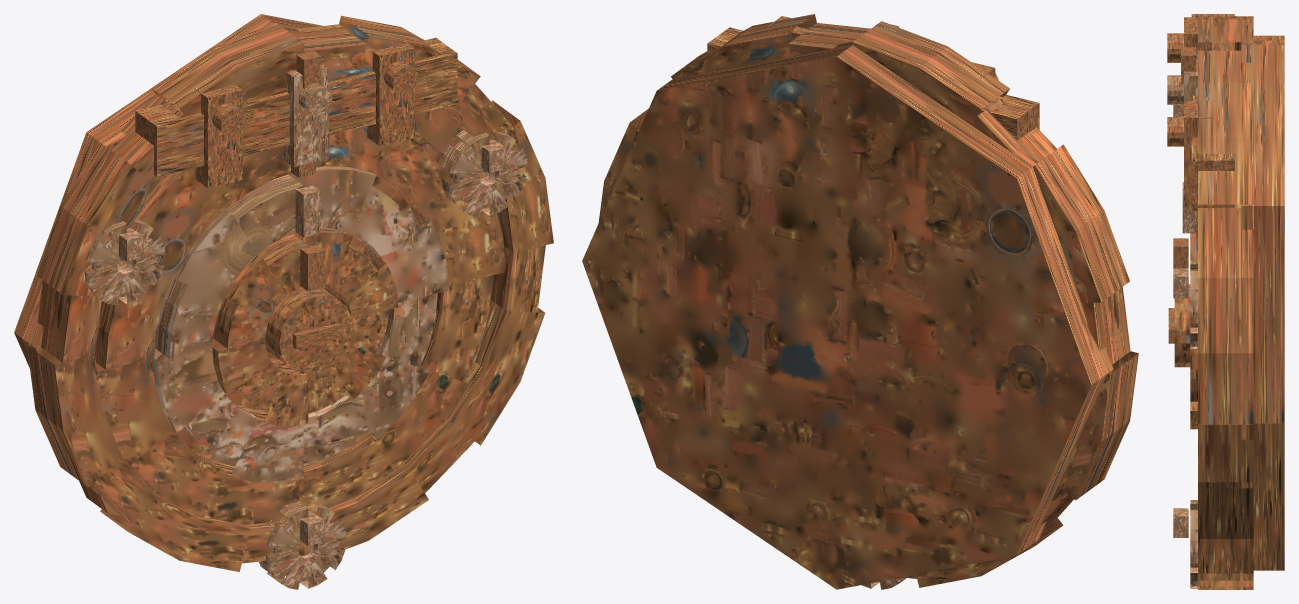
File: M4_守塔人黄铜三轴星盘.glb
3 renders of one model, left to right at view 1: azimuth 30°, elevation 25°; view 2: azimuth 150°, elevation 25°; view 3: azimuth 270°, elevation 25°, orthographic. The views are drawn at different scales.
Parts seen in each view (by area): view 1: Frame_Base, Ring_0, Ring_1, Ring_2, Core_Spindle, Gear_0, Gear_2, Gear_1, Latch_2, Latch_0, Latch_1; view 2: Frame_Base; view 3: Frame_Base, Latch_2, Core_Spindle, Ring_2, Gear_0, Gear_2, Latch_0, Latch_1, Ring_1.
Part boxes in pixels (x1,y1,x2,y2): Frame_Base: (14,14,553,571); Ring_0: (95,126,505,524); Ring_1: (153,166,449,482); Ring_2: (212,228,398,426); Core_Spindle: (265,287,352,373); Gear_0: (441,130,527,216); Gear_2: (259,500,346,589); Gear_1: (84,217,165,305); Latch_2: (367,38,418,146); Latch_0: (194,85,246,188); Latch_1: (281,64,332,167); Frame_Base: (582,14,1138,589); Frame_Base: (1181,14,1284,589); Latch_2: (1167,101,1211,207); Core_Spindle: (1168,284,1190,367); Ring_2: (1173,233,1197,429); Gear_0: (1173,260,1197,348); Gear_2: (1173,500,1197,588); Latch_0: (1167,17,1211,62); Latch_1: (1167,59,1197,104); Ring_1: (1182,182,1197,233).
Size of the model in its own units: 0.93 by 0.967 by 0.1895.
2 materials, 2 textured.
